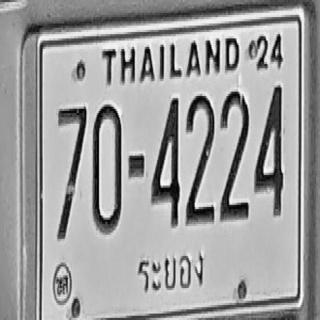N00: (92, 103, 121, 234)
N02: (185, 94, 214, 226), (220, 89, 249, 221)
N04: (254, 84, 283, 217), (151, 96, 180, 226)
N07: (57, 105, 86, 239)
P53: (136, 245, 209, 296)
